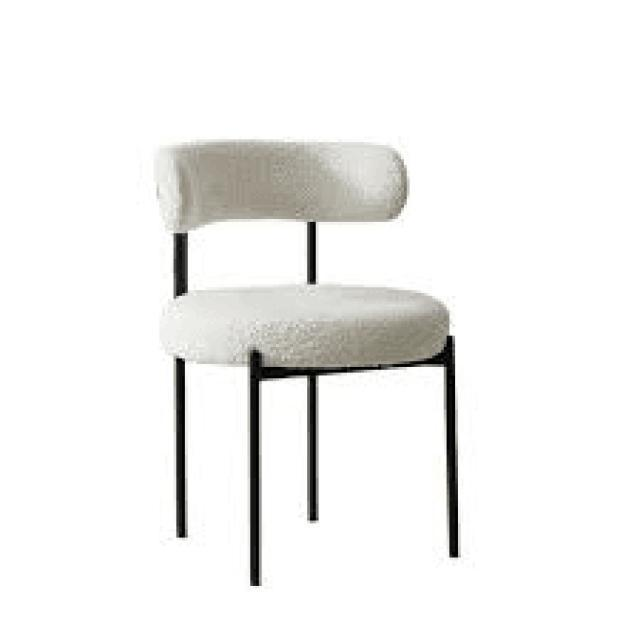chair: (149, 132, 465, 590), (152, 147, 412, 337)
